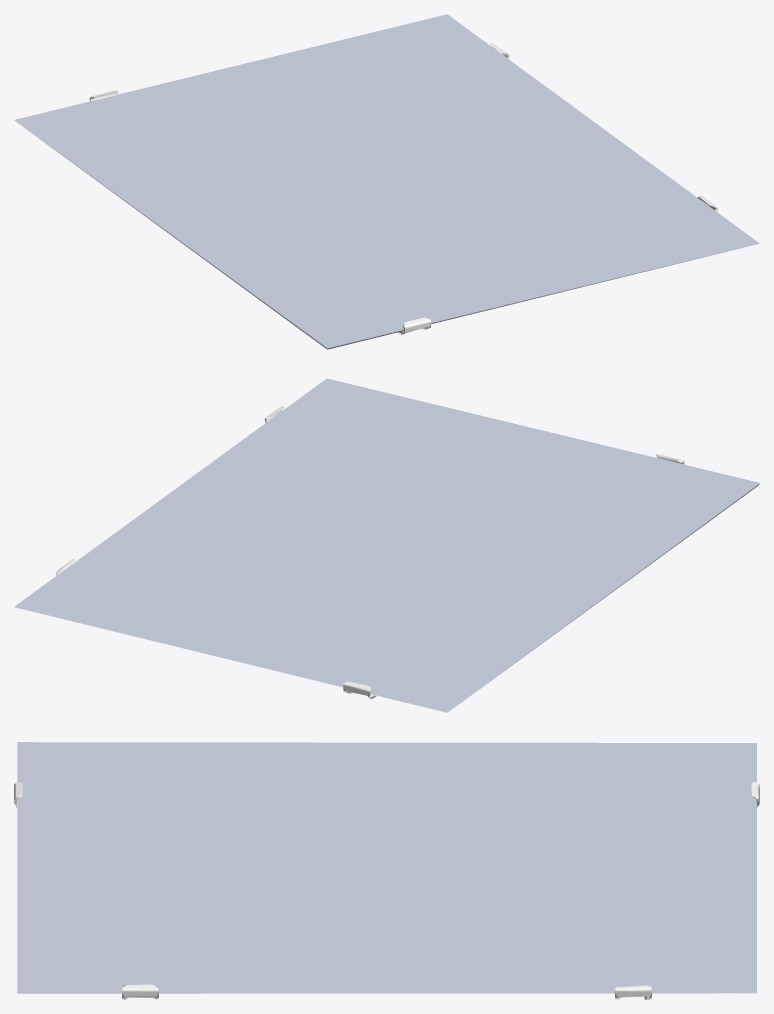
Rendered from 19 - LÄRBRO Mirror 48x60 cm.glb.
3 renders of one model, top to bottom at view 1: azimuth 30°, elevation 25°; view 2: azimuth 150°, elevation 25°; view 3: azimuth 270°, elevation 25°, orthographic. The views are drawn at different scales.
Parts seen in each view (by area): view 1: ASY_ART_40601778_S01_NV01; view 2: ASY_ART_40601778_S01_NV01; view 3: ASY_ART_40601778_S01_NV01.
Part boxes in pixels (<box>): ASY_ART_40601778_S01_NV01: <box>14,14,759,349</box>; ASY_ART_40601778_S01_NV01: <box>14,378,759,712</box>; ASY_ART_40601778_S01_NV01: <box>14,742,759,999</box>.
Size of the model in its own units: 0.4829 by 0.0151 by 0.605.
2 materials, 2 textured.
